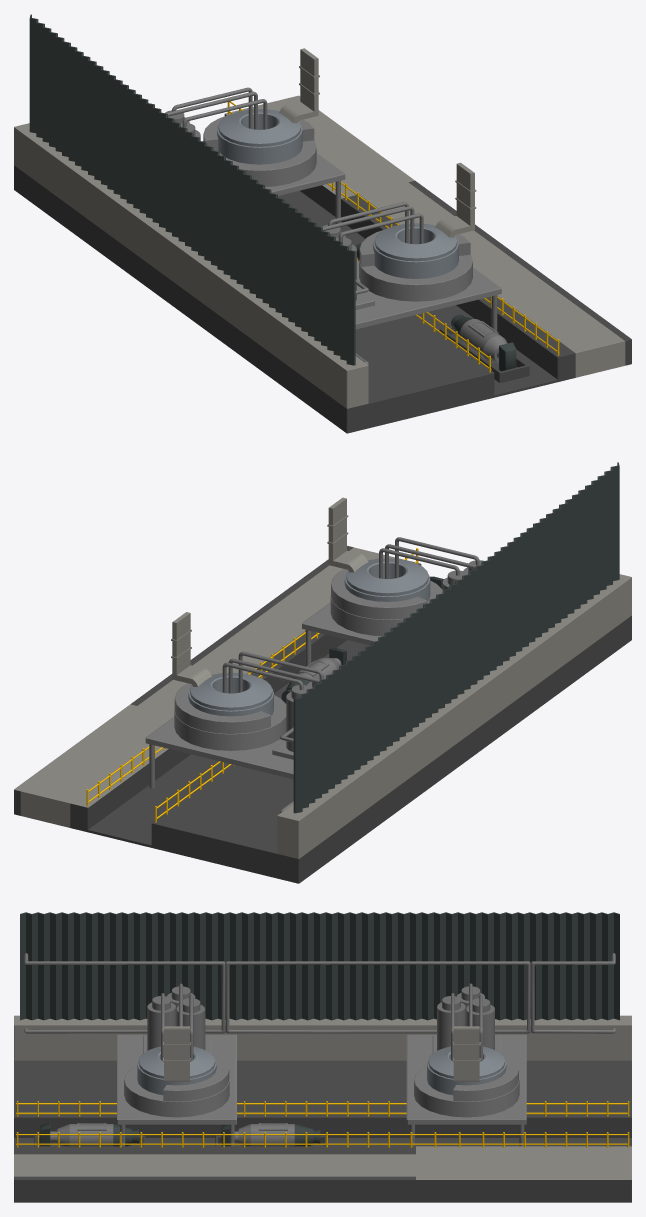
The picture shows the model from 3 angles, top to bottom: view 1: azimuth 30°, elevation 25°; view 2: azimuth 150°, elevation 25°; view 3: azimuth 270°, elevation 25°; orthographic projection. The views are drawn at different scales.
Parts seen in each view (by area): view 1: Object124, Box1770, Object123, Object127, Object129, Object126, Cylinder970, Box1771, Cylinder1006, Rectangle012, Rectangle013, Box1776 (+5 smaller); view 2: Object124, Box1770, Object123, Object127, Cylinder1006, Cylinder970, Object129, Object126, Box1774, Rectangle013, Box1773, Box1776 (+2 smaller); view 3: Object124, Box1770, Object127, Object123, Line170, Box1774, Box1771, Cylinder970, Cylinder1006, Cylinder1011, Object129, Object126 (+12 smaller).
Boxes of the visible parts, x1,y1,x2,y2 form: Object124: [29, 14, 355, 365]; Box1770: [14, 114, 631, 433]; Object123: [14, 123, 368, 408]; Object127: [225, 95, 625, 377]; Object129: [217, 109, 302, 164]; Object126: [373, 223, 458, 278]; Cylinder970: [359, 229, 472, 301]; Box1771: [355, 260, 501, 329]; Cylinder1006: [203, 115, 316, 186]; Rectangle012: [323, 202, 423, 243]; Rectangle013: [165, 87, 267, 129]; Box1776: [279, 48, 319, 123]; Object124: [293, 462, 619, 813]; Box1770: [14, 546, 631, 883]; Object123: [277, 574, 631, 858]; Object127: [14, 547, 403, 827]; Cylinder1006: [174, 683, 286, 750]; Cylinder970: [330, 569, 442, 636]; Object129: [188, 672, 273, 716]; Object126: [344, 558, 430, 601]; Box1774: [145, 717, 293, 779]; Rectangle013: [222, 651, 323, 693]; Box1773: [327, 497, 368, 572]; Box1776: [171, 612, 211, 686]; Object124: [20, 912, 619, 1020]; Box1770: [14, 1060, 631, 1202]; Object127: [14, 1146, 631, 1179]; Object123: [14, 1015, 631, 1060]; Line170: [24, 953, 615, 1033]; Box1774: [406, 1034, 526, 1124]; Box1771: [117, 1034, 236, 1124]; Cylinder970: [124, 1050, 229, 1117]; Cylinder1006: [414, 1051, 519, 1117]; Cylinder1011: [16, 1134, 629, 1144]; Object129: [427, 1046, 506, 1095]; Object126: [137, 1046, 216, 1095].
Size of the model in its own units: 163 by 97.03 by 331.
